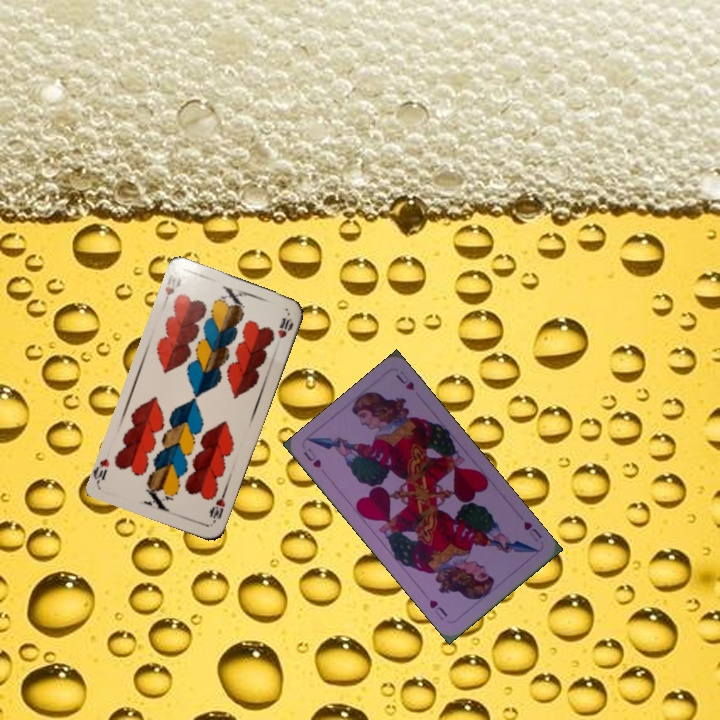H10: (159, 270, 184, 308), (205, 487, 228, 526)
HU: (519, 517, 545, 545), (299, 444, 324, 470)
